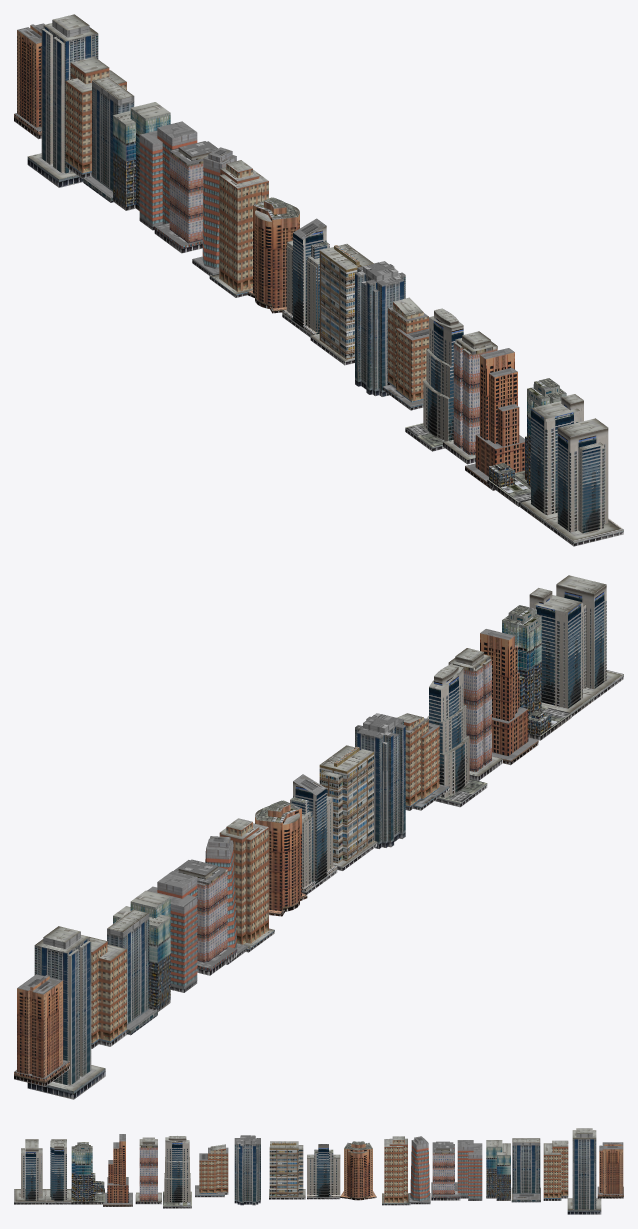
Rendered from Skybulid (2).fbx.
The picture shows the model from 3 angles, top to bottom: view 1: azimuth 30°, elevation 25°; view 2: azimuth 150°, elevation 25°; view 3: azimuth 270°, elevation 25°; orthographic projection. The views are drawn at different scales.
Parts seen in each view (by area): view 1: Skybulid__2_; view 2: Skybulid__2_; view 3: Skybulid__2_.
Part boxes in pixels (x1,y1,x2,y2): Skybulid__2_: (14,14,623,546); Skybulid__2_: (14,575,623,1099); Skybulid__2_: (14,1128,623,1214).
Bounding box in the file's own units: 3222 × 8171 × 57293.
